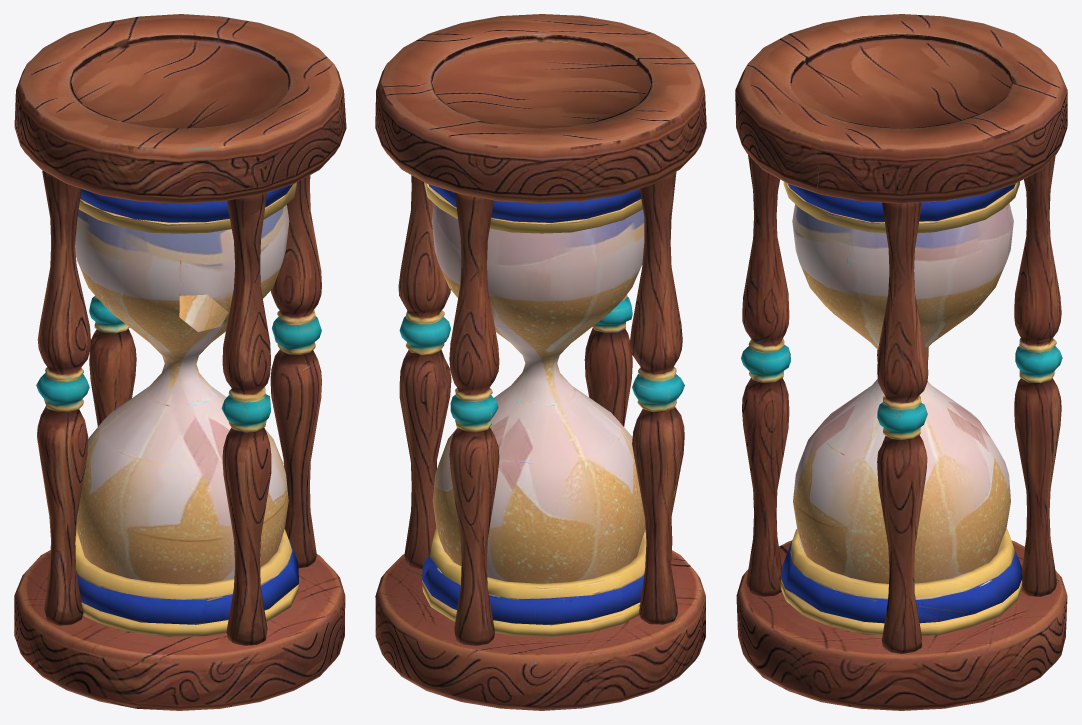
Rendered from hourglass.glb.
The picture shows the model from 3 angles, left to right: view 1: azimuth 30°, elevation 25°; view 2: azimuth 150°, elevation 25°; view 3: azimuth 270°, elevation 25°; orthographic projection.
Size of the model in its own units: 0.5329 by 1 by 0.536.
Materials: 1 (1 with a texture image).
